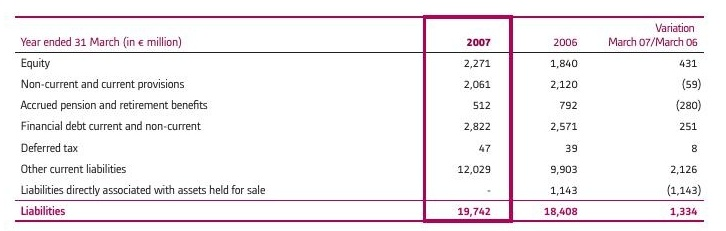table: (0, 0, 726, 231)
